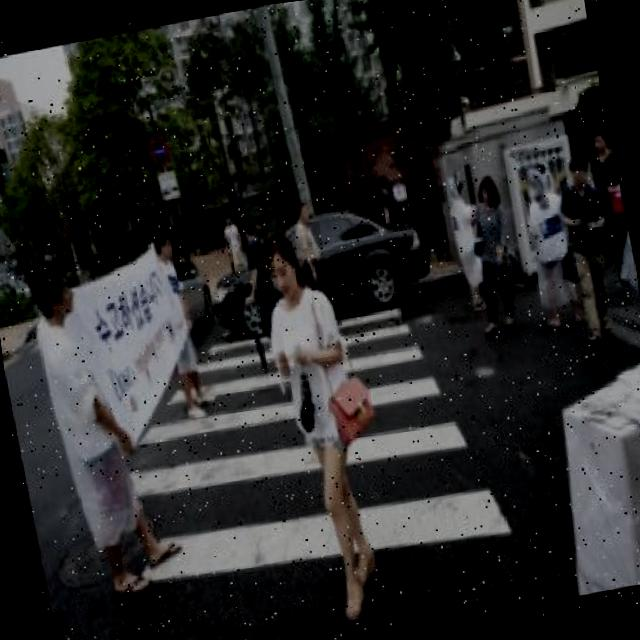Person: (22, 242, 188, 606), (255, 222, 398, 629), (551, 149, 631, 350), (151, 220, 221, 422), (454, 173, 528, 339), (518, 165, 586, 331), (442, 165, 496, 318), (233, 208, 286, 338), (290, 195, 326, 296), (582, 125, 620, 203)
